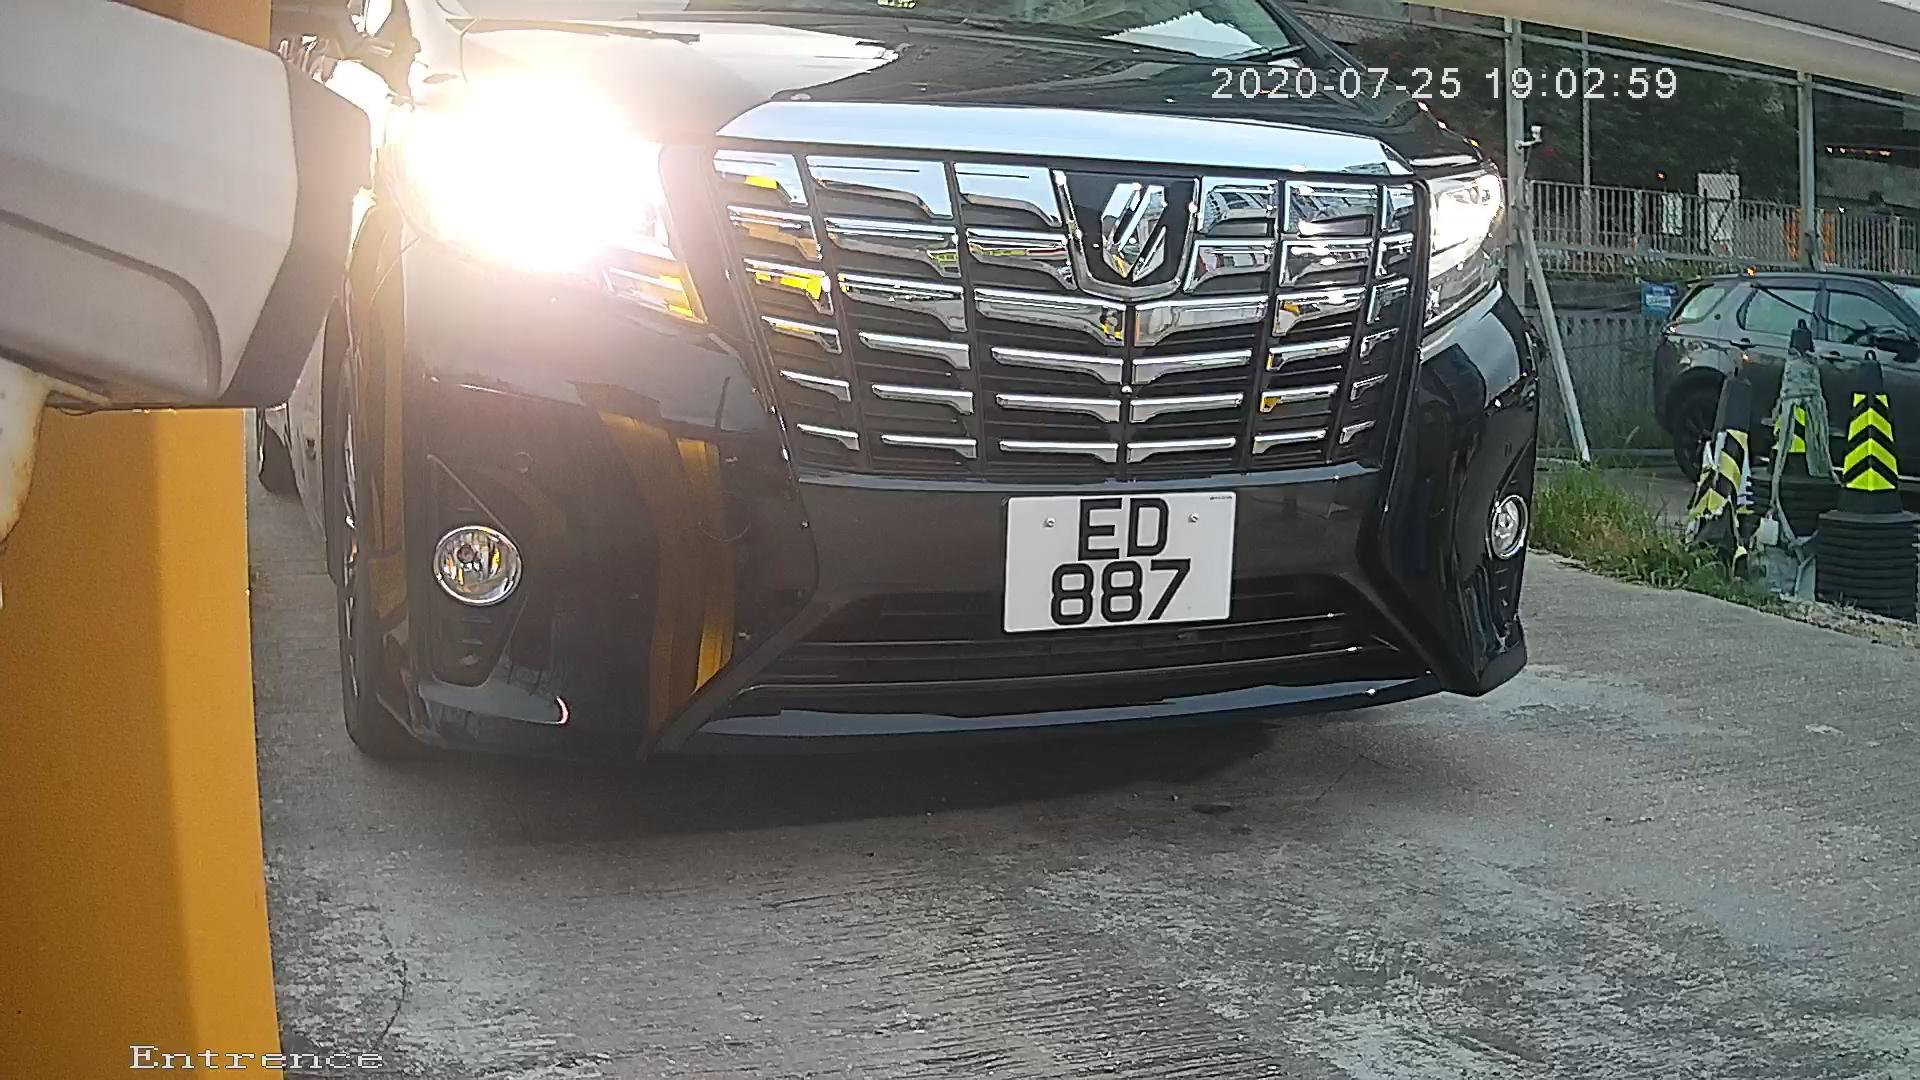License Plate: (978, 468, 1260, 651)
